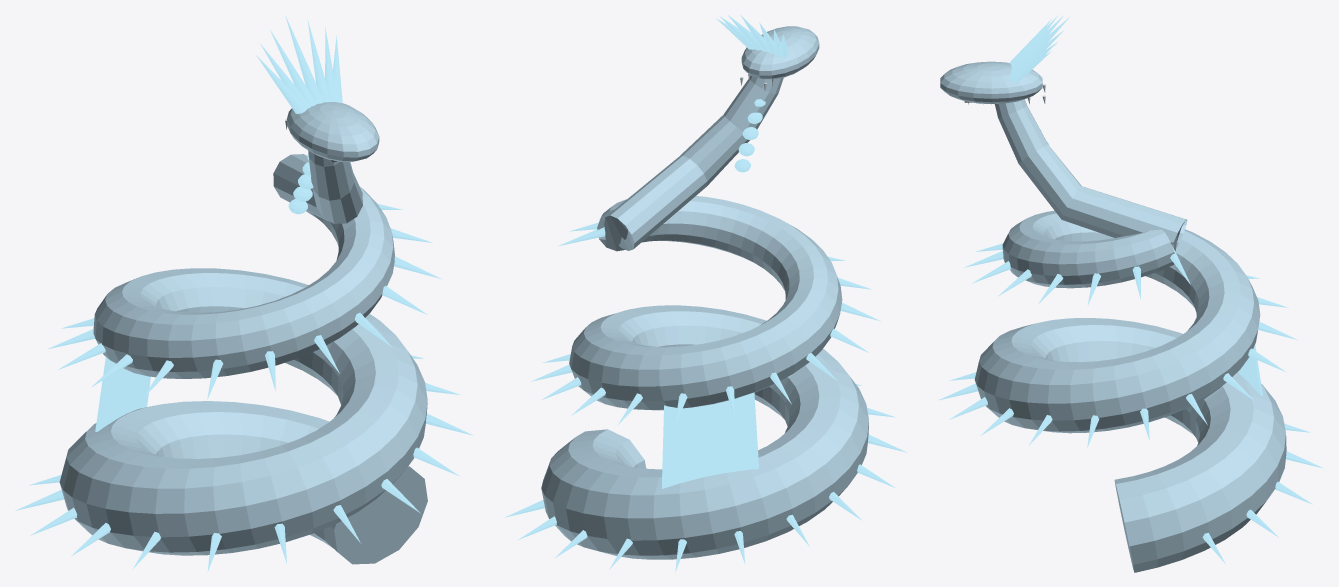
File: mourncoil.glb
The picture shows the model from 3 angles, left to right: view 1: azimuth 30°, elevation 25°; view 2: azimuth 150°, elevation 25°; view 3: azimuth 270°, elevation 25°; orthographic projection. The views are drawn at different scales.
Visible parts, largest first — view 1: mourncoil_body, mourncoil_glow; view 2: mourncoil_body, mourncoil_glow; view 3: mourncoil_body, mourncoil_glow.
Part boxes in pixels (x1,y1,x2,y2): mourncoil_body: [59, 102, 427, 564]; mourncoil_glow: [15, 15, 473, 571]; mourncoil_body: [541, 26, 868, 559]; mourncoil_glow: [504, 14, 907, 572]; mourncoil_body: [940, 61, 1286, 572]; mourncoil_glow: [938, 15, 1323, 563].
Size of the model in its own units: 6.68 by 10 by 7.01.
